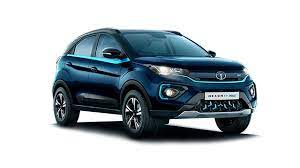Tata Nexon: (48, 21, 259, 142)
